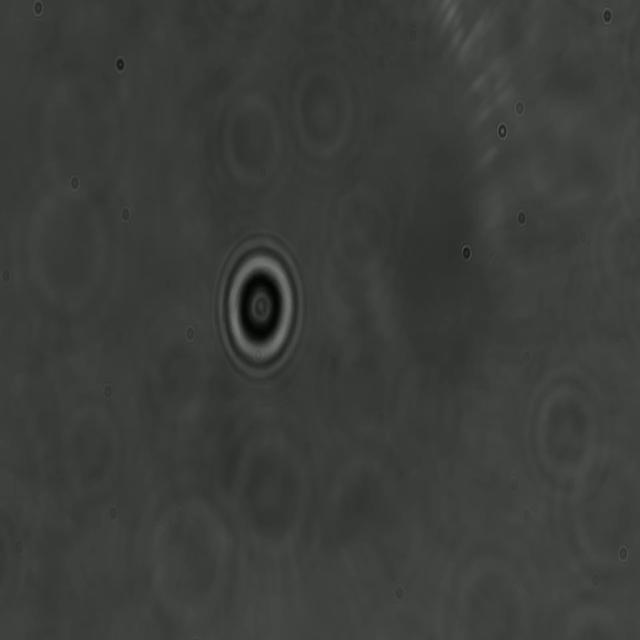LCELL: (213, 228, 307, 388)
